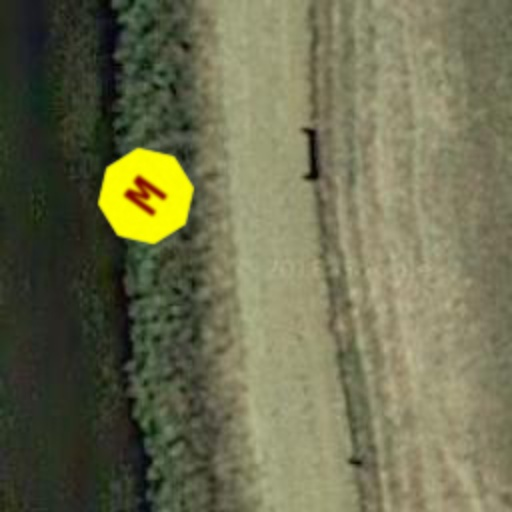octagon: (76, 126, 216, 266)
